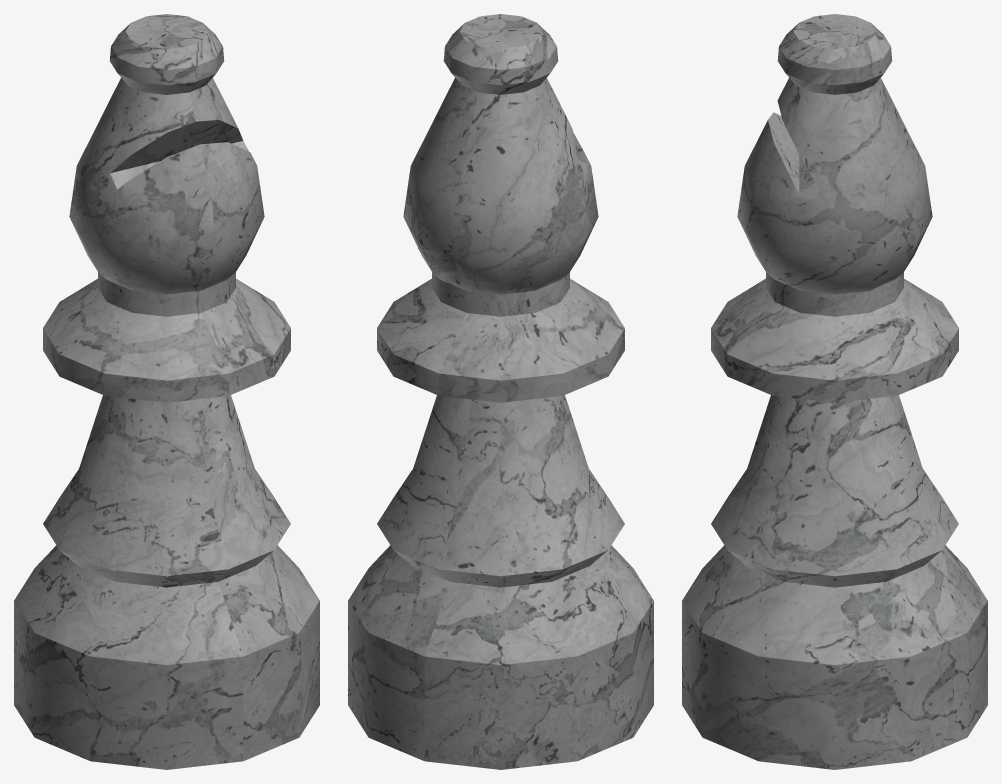
The model's file is bishop.glb.
3 views of the same model, side by side, from view 1: azimuth 30°, elevation 25°; view 2: azimuth 150°, elevation 25°; view 3: azimuth 270°, elevation 25° (orthographic).
Parts seen in each view (by area): view 1: Bishop; view 2: Bishop; view 3: Bishop.
Part boxes in pixels (left/top/right/bottom): Bishop: left=14, top=14, right=319, bottom=769; Bishop: left=348, top=14, right=653, bottom=769; Bishop: left=682, top=14, right=987, bottom=769.
Size of the model in its own units: 1.1 by 2.67 by 1.1.
Materials: 1 (1 with a texture image).
